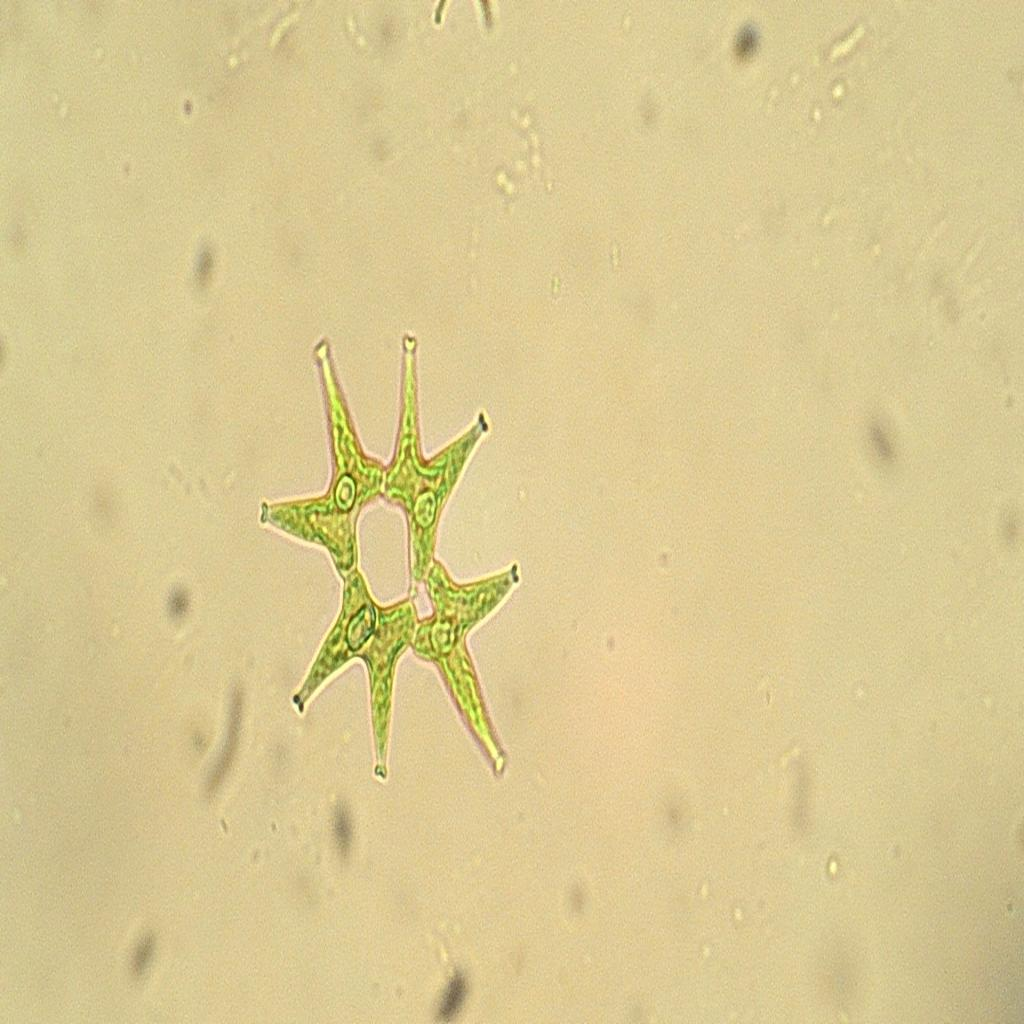Pediastrum_75FO: (255, 317, 541, 807)
